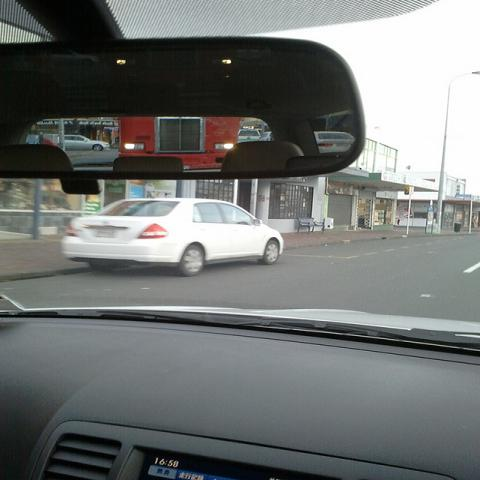car: (0, 304, 479, 474), (58, 197, 287, 277), (314, 130, 354, 154)
